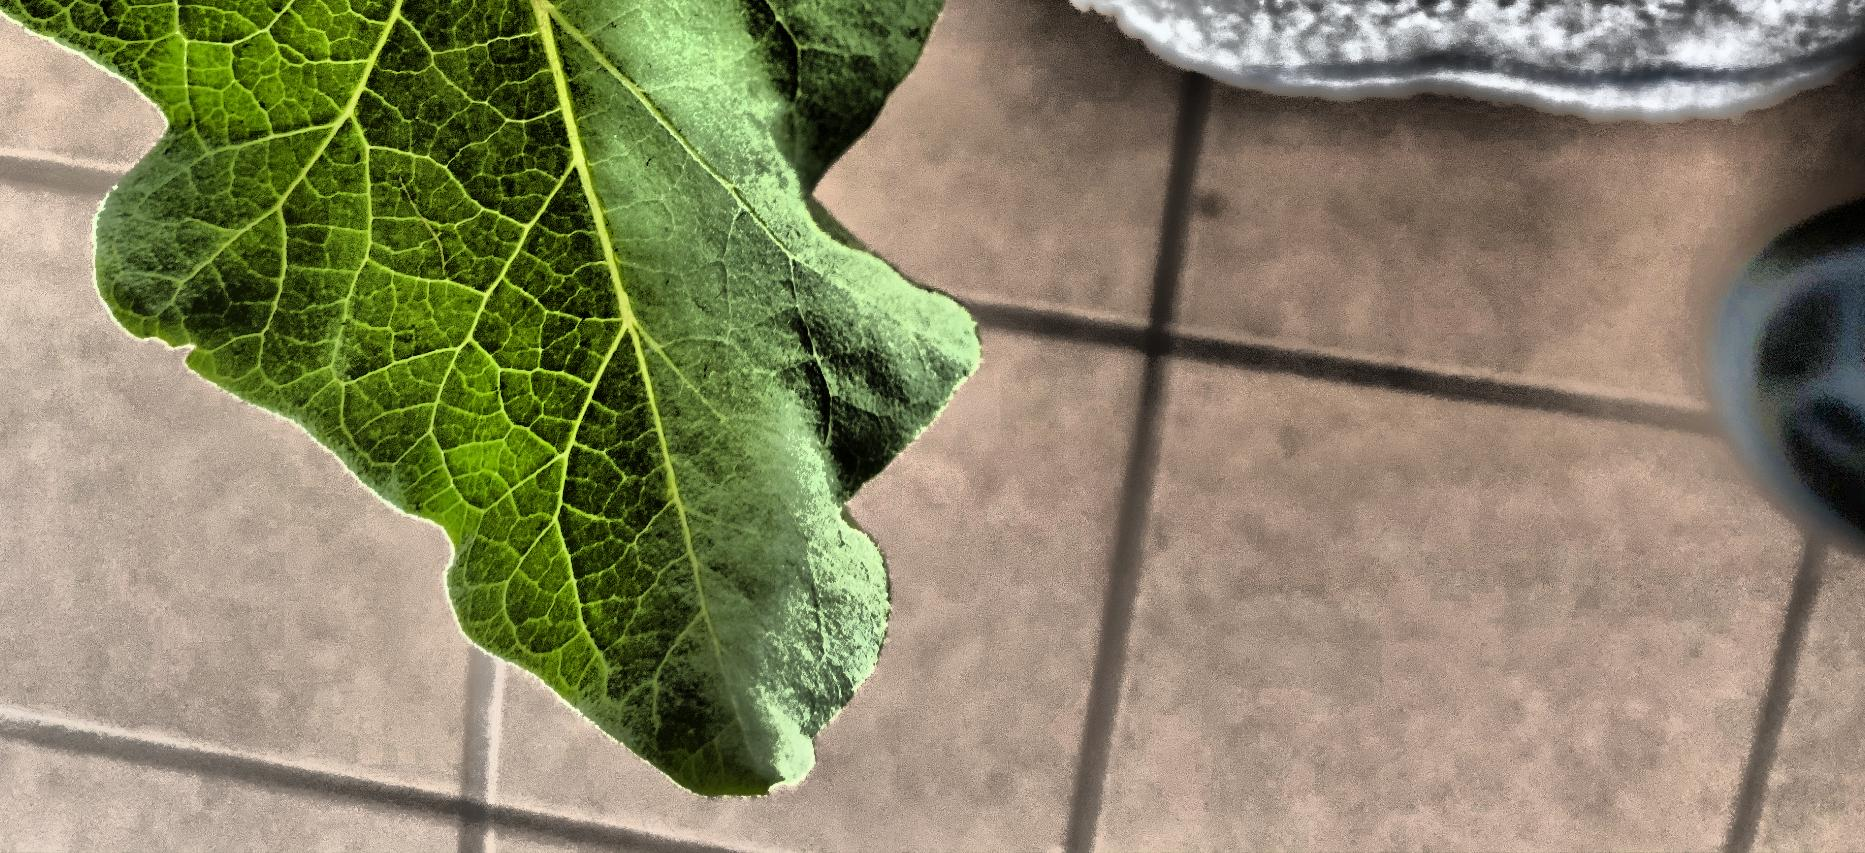HEALTHY: (0, 228, 1364, 853)
